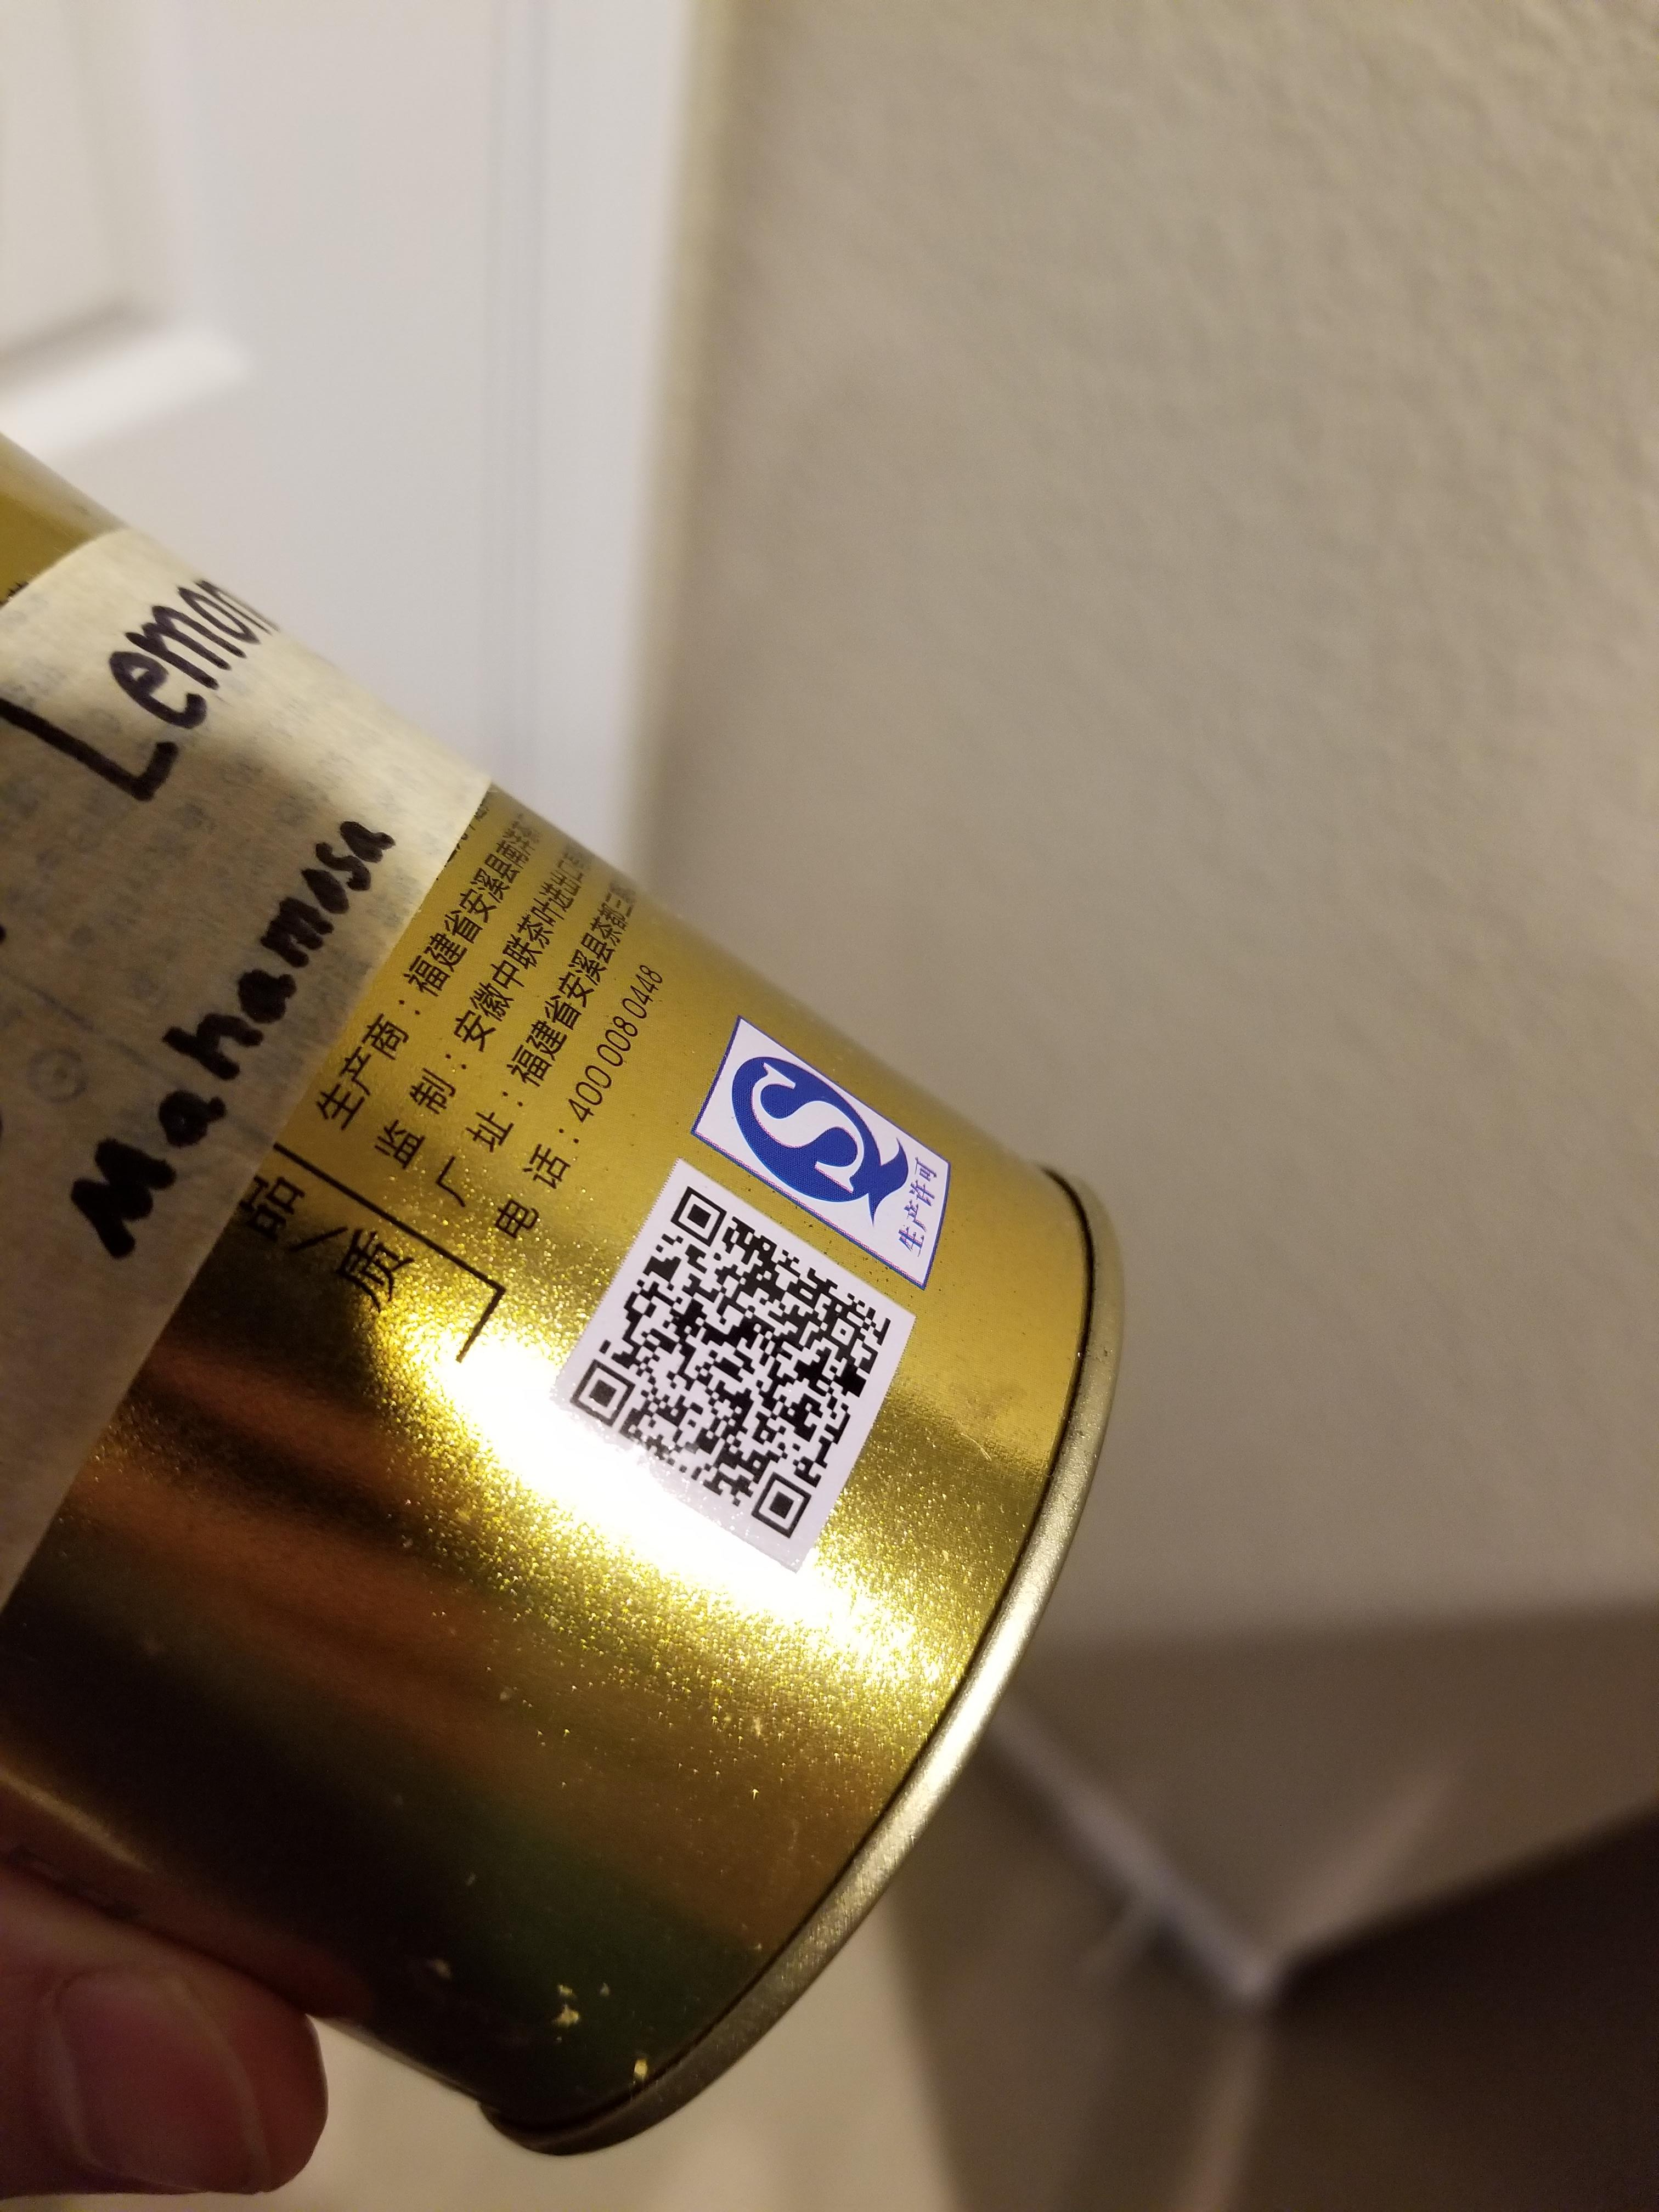QR_CODE: (542, 1130, 924, 1562)
